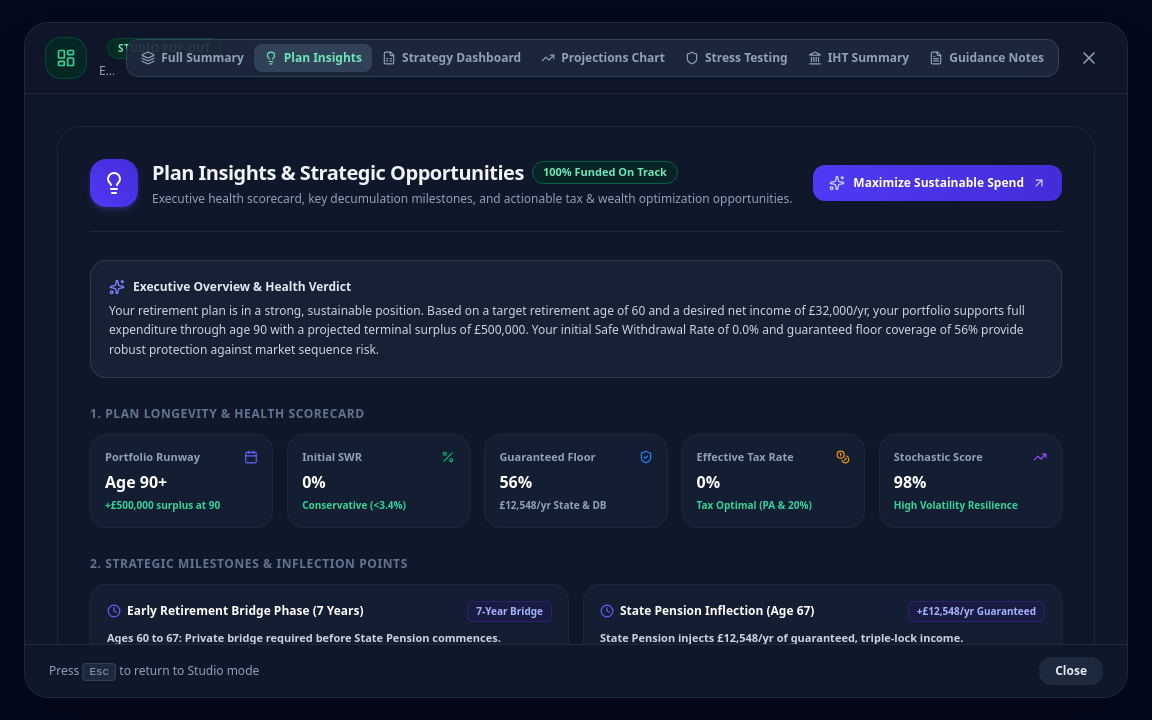
Scenario: SummaryModal › switches between different sub-tabs
Switch to Strategy Dashboard
Click the button "Strategy Dashboard".
click(452, 58)  # box [372,44,531,72]
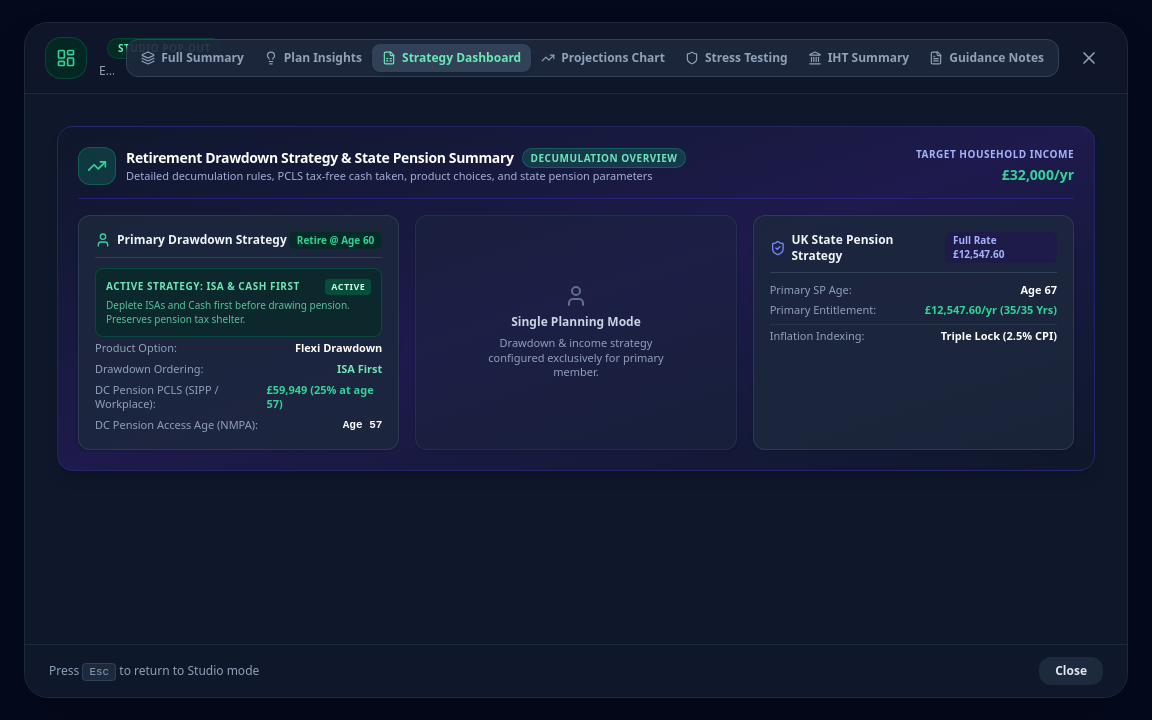
Switch to Projections Chart
Click the button "Projections Chart".
click(603, 58)  # box [531,44,675,72]
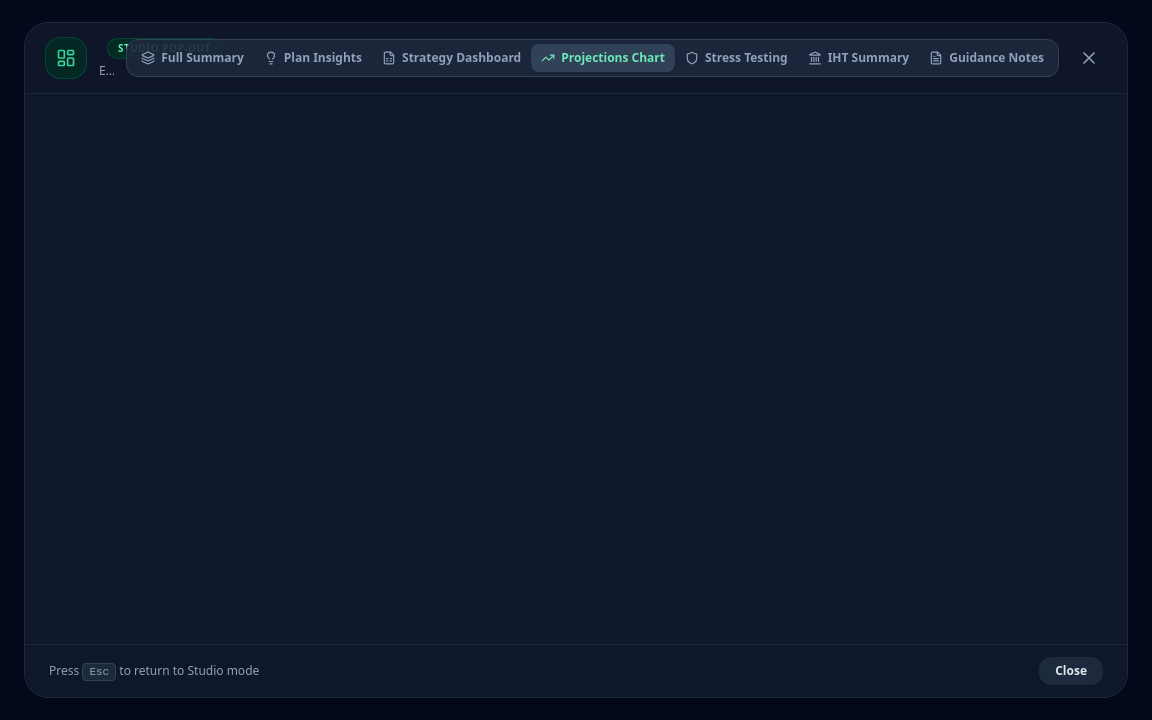
Switch to Stress Testing
Click the button "Stress Testing".
click(736, 58)  # box [675,44,798,72]
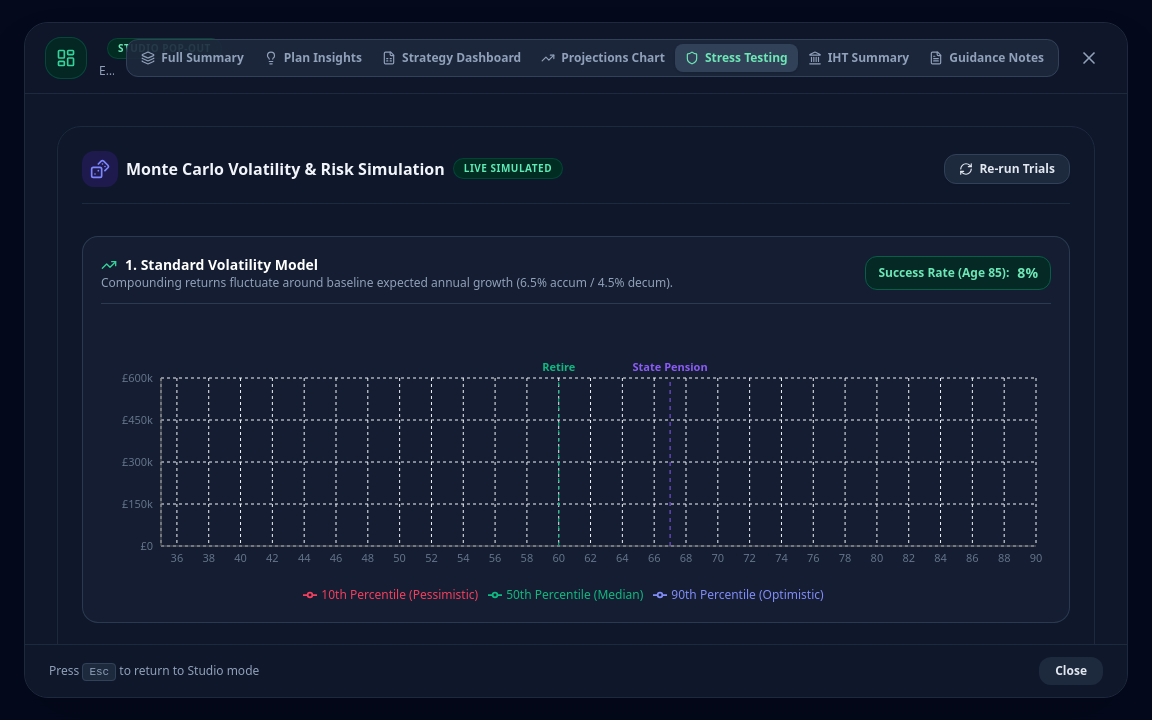
Switch to IHT Summary
Click the button "IHT Summary".
click(858, 58)  # box [798,44,919,72]
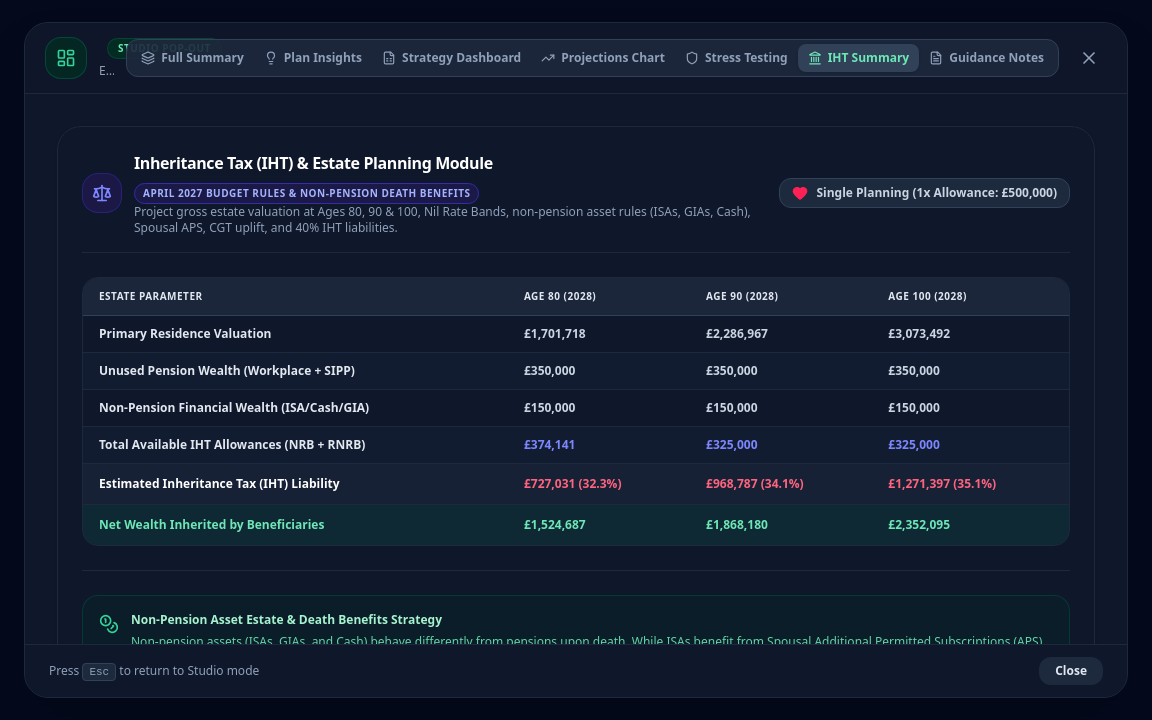
Switch to Guidance Notes
Click the button "Guidance Notes".
click(987, 58)  # box [919,44,1054,72]
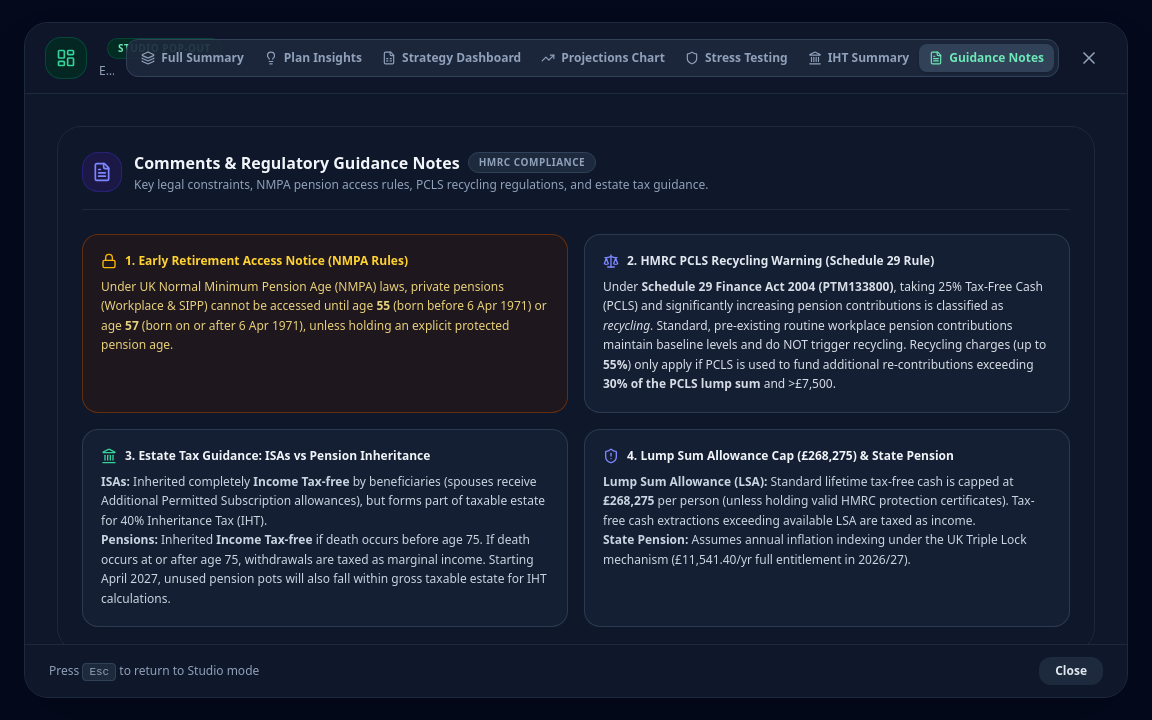
Expected: the text "Comments & Regulatory Guidance Notes" is shown, [134,151,460,175]
